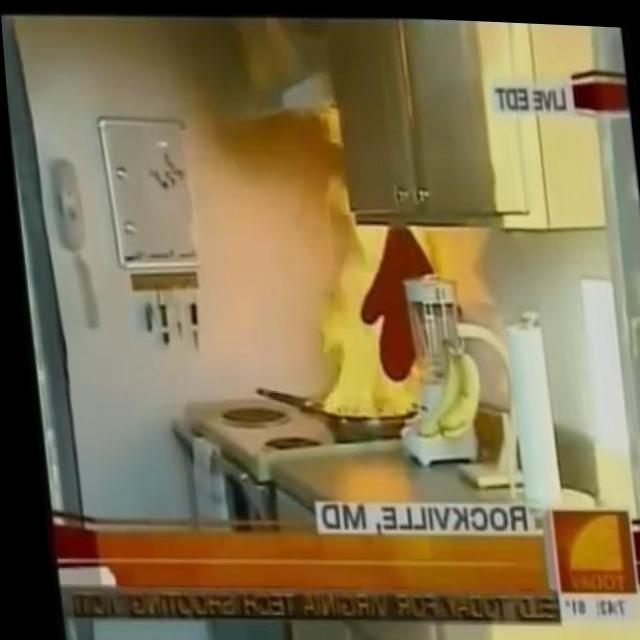fire: (290, 90, 438, 420)
